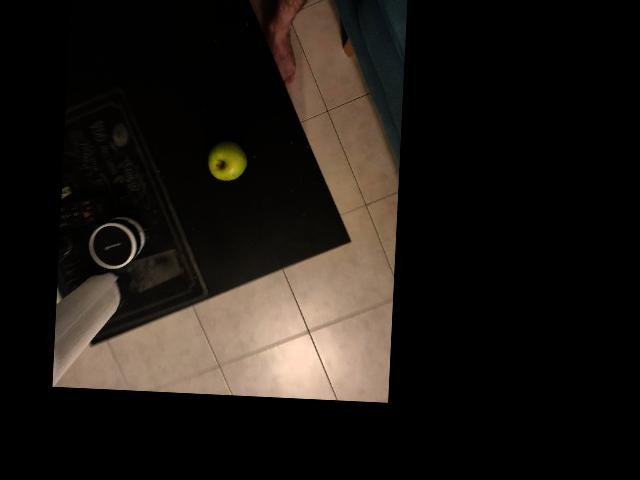apple: (267, 204, 315, 252)
